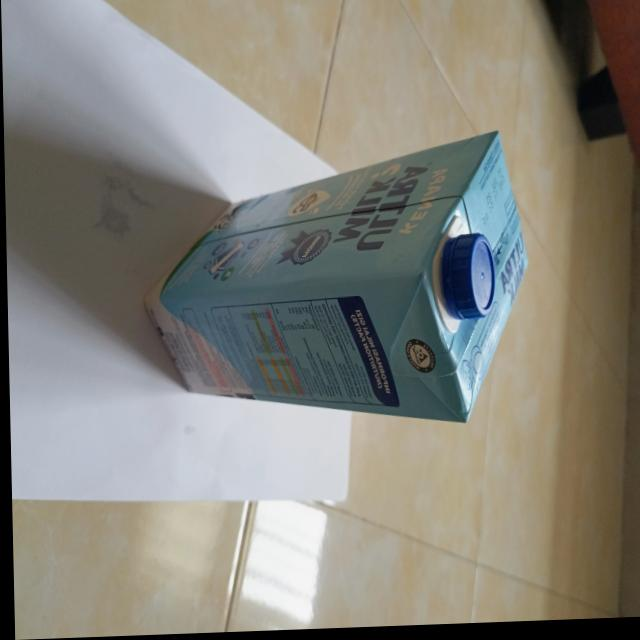indomie-mie-kocok-bandung: (138, 135, 529, 435)
